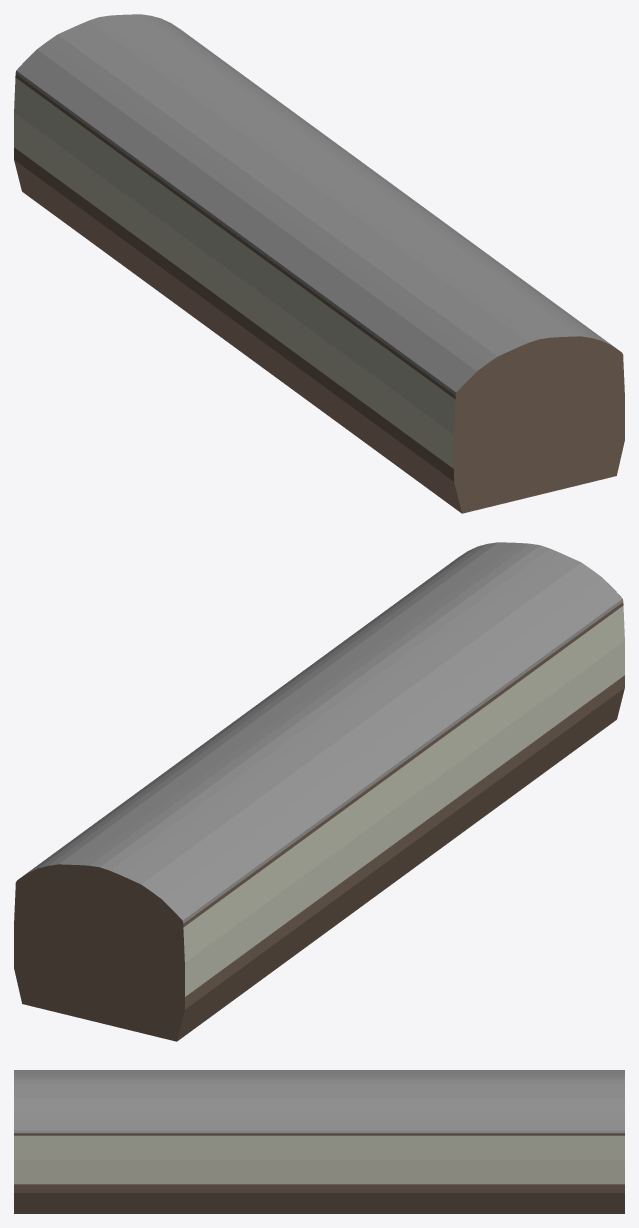
Rendered from 57ft-eliptical-roof-clipper-side-body-shape.dae.
3 renders of one model, top to bottom at view 1: azimuth 30°, elevation 25°; view 2: azimuth 150°, elevation 25°; view 3: azimuth 270°, elevation 25°, orthographic. The views are drawn at different scales.
Visible parts, largest first — view 1: Cube_001; view 2: Cube_001; view 3: Cube_001.
Boxes of the visible parts, x1,y1,x2,y2 form: Cube_001: [14, 14, 624, 513]; Cube_001: [14, 542, 624, 1041]; Cube_001: [14, 1070, 624, 1213].
Size of the model in its own units: 2.21 by 9.85 by 1.92.
